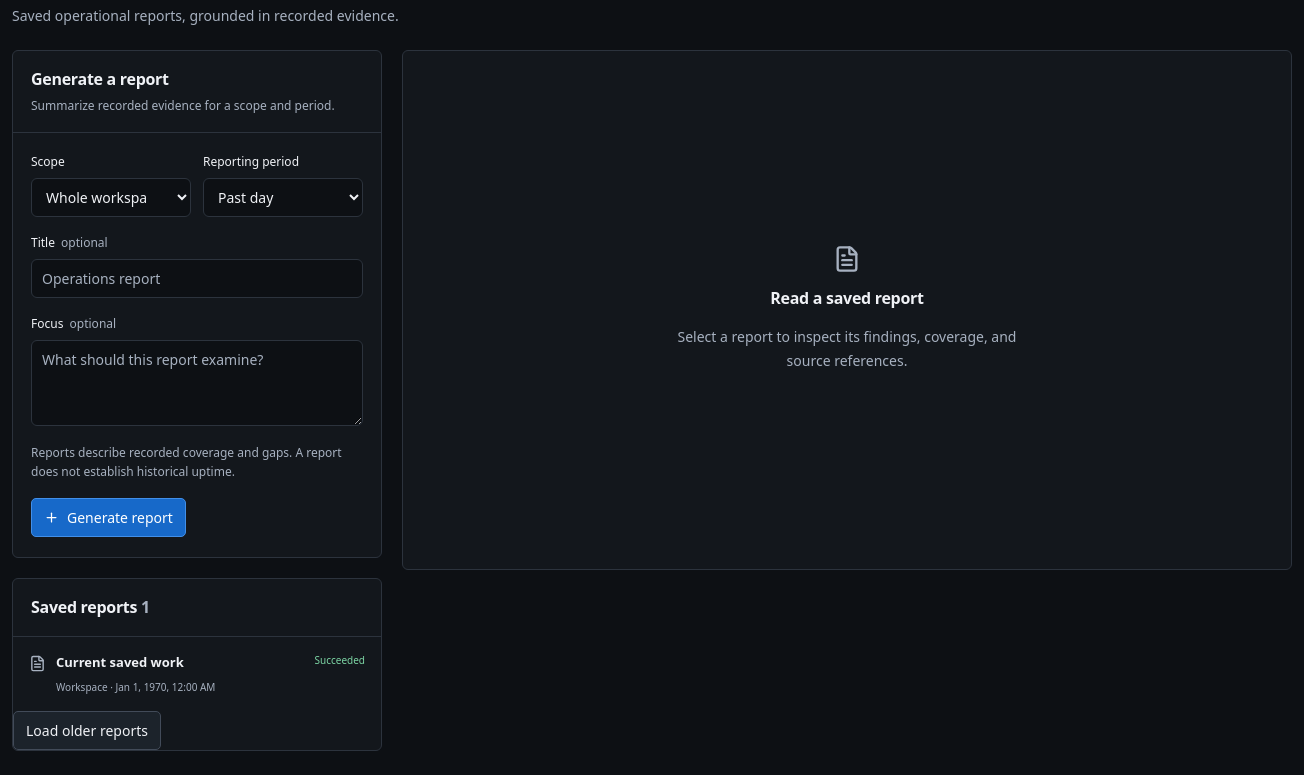
Test: persistent Studio interfaces › loads older reports without duplicating records already in the overview
(page scrolled)
Click the button "Load older reports".
click(87, 730)  # box [13, 711, 161, 750]
(page scrolled)
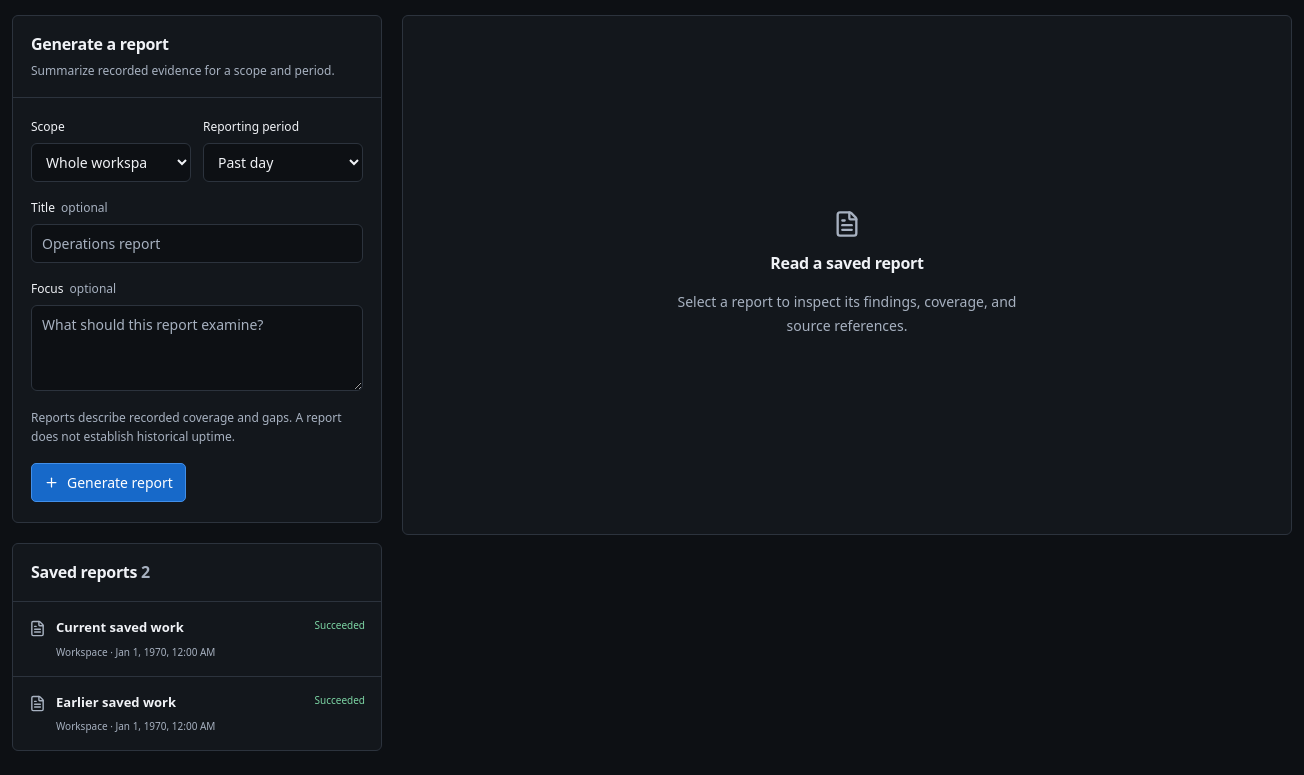
Now the button "Earlier saved work" is shown, box [13, 677, 381, 750]
Now the number of buttons "Current saved work" is 1, box [13, 602, 381, 677]
